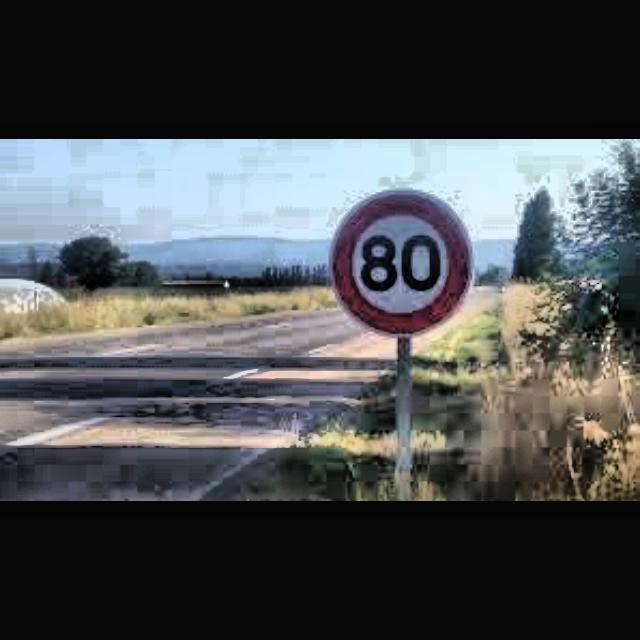speed_80: (333, 192, 472, 334)
